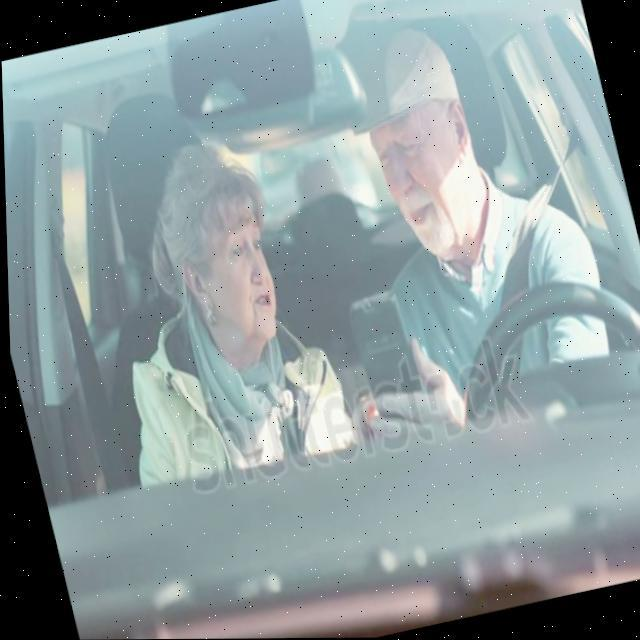PhoneCall: (342, 284, 430, 429)
